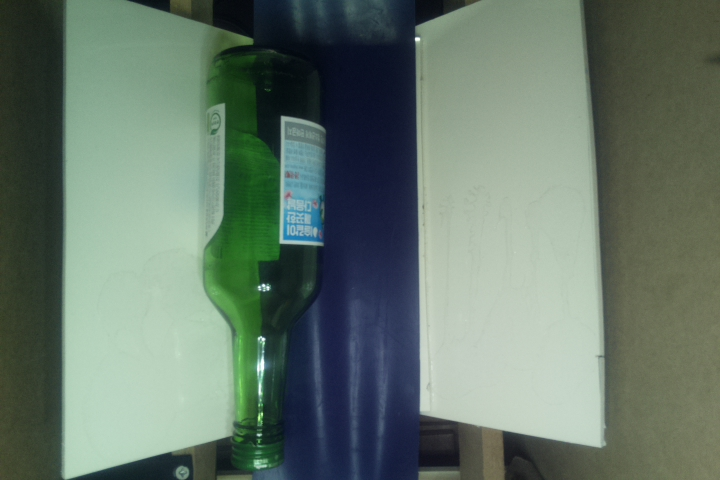soju: (195, 39, 330, 470)
